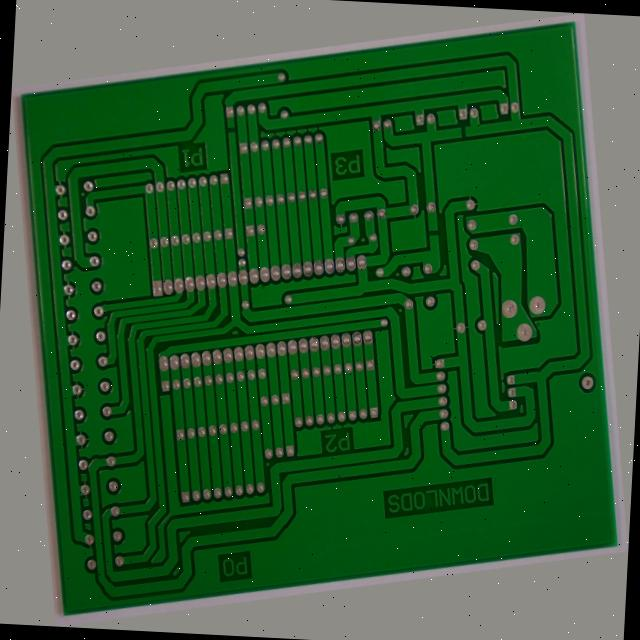open_circuit: (497, 121, 514, 140), (449, 234, 467, 251), (245, 69, 258, 87)
